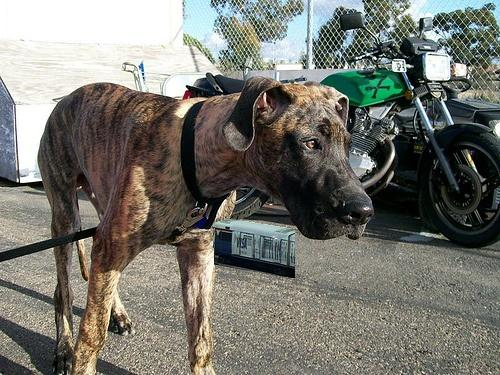tampered: (214, 219, 295, 278)
